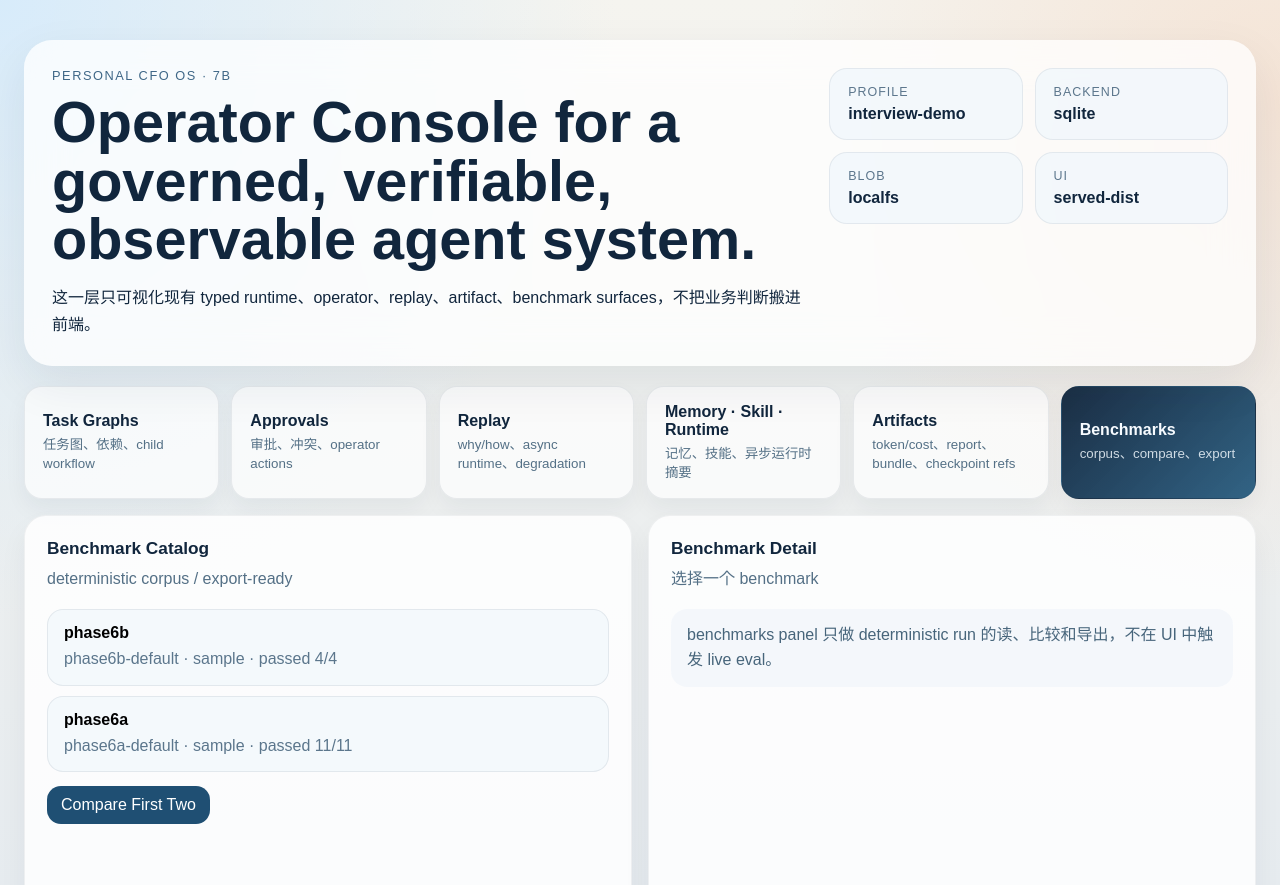
Scenario: App › renders benchmark catalog, compare summary, and artifact usage
Expected: the text "phase6b" is shown, [64,624,129,641]
Click the button "Compare First Two" at (128, 805), box [47,786,210,824]
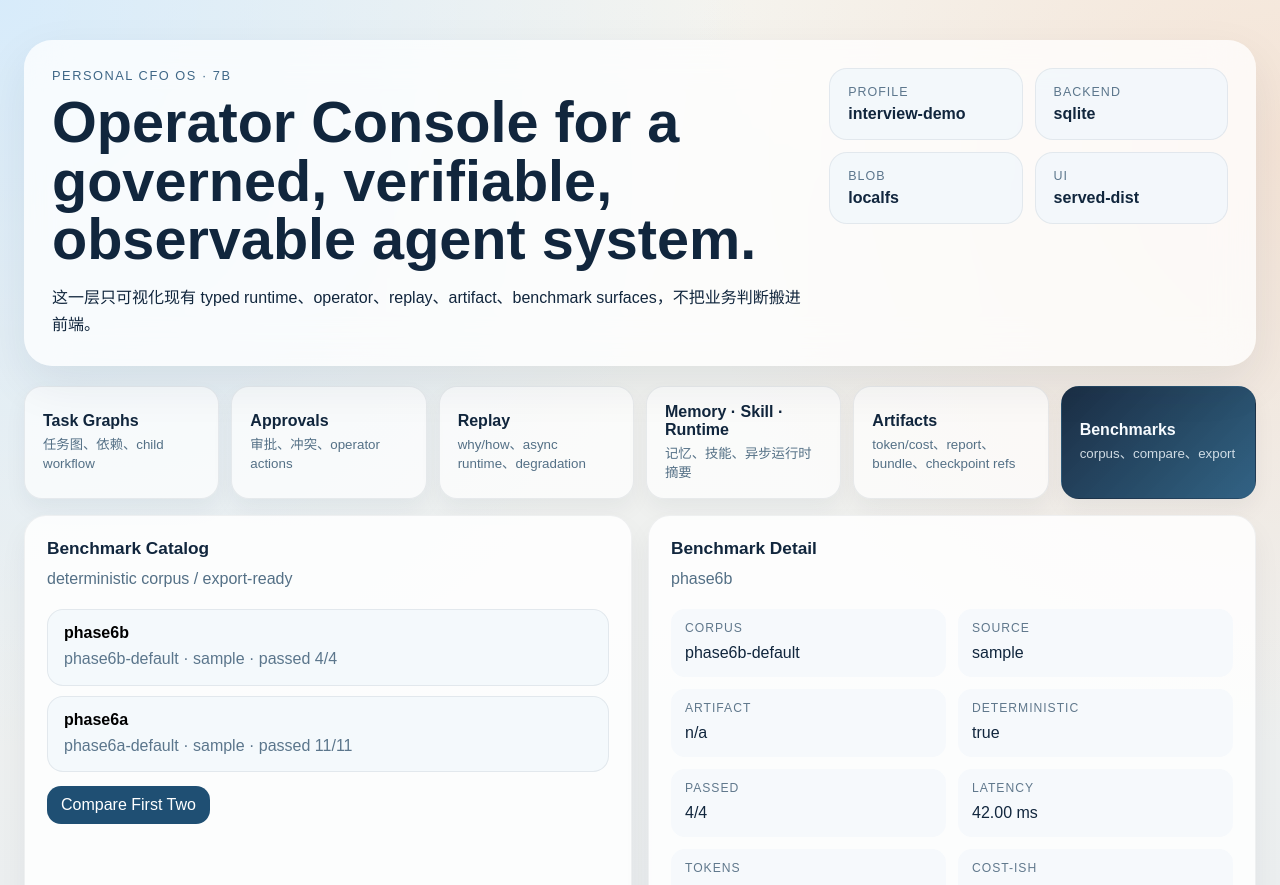
Click the text "Artifacts" at (905, 420), box [872,412,937,429]
(page scrolled)
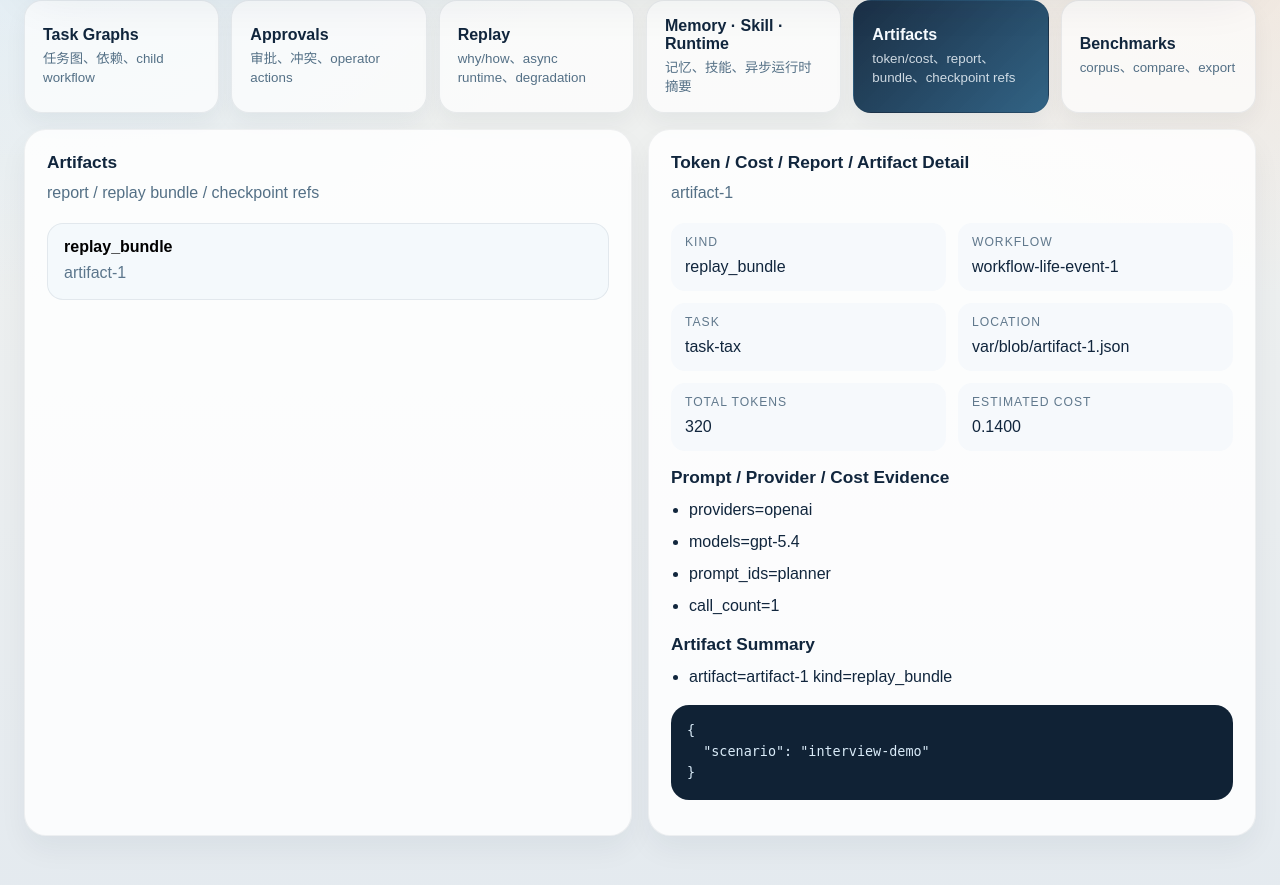
Now the heading "Prompt / Provider / Cost Evidence" is shown, box [671,467,949,487]
Now the list item "providers=openai" is shown, box [689,501,812,518]
